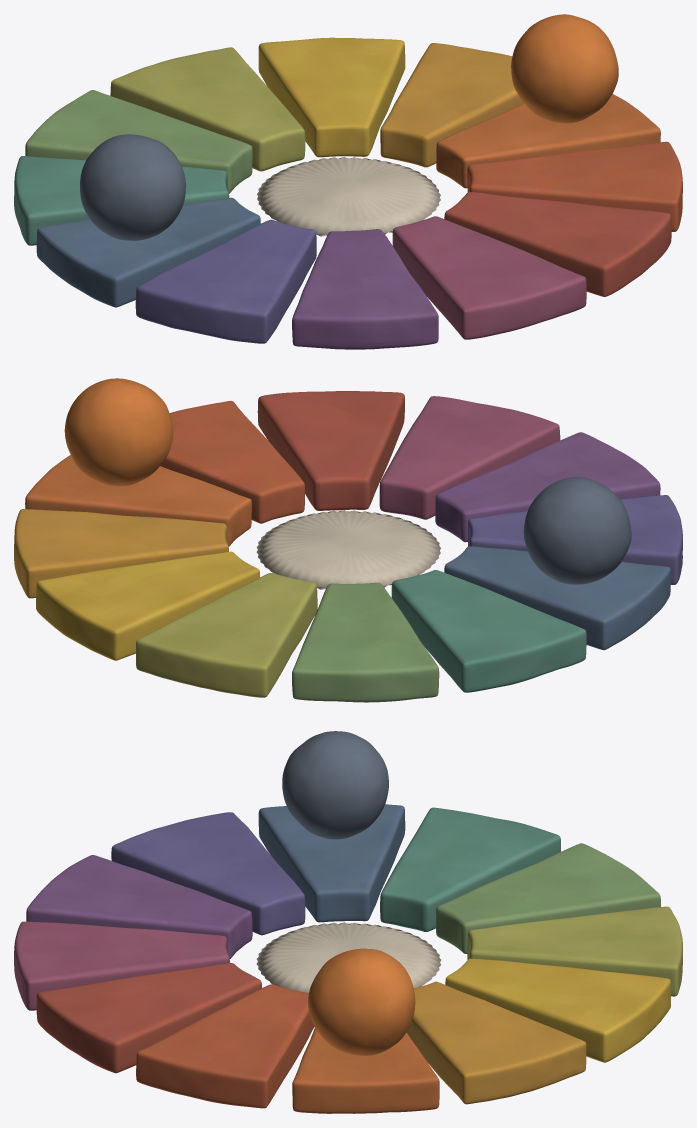
File: neutralizacion-del-color.glb
The picture shows the model from 3 angles, top to bottom: view 1: azimuth 30°, elevation 25°; view 2: azimuth 150°, elevation 25°; view 3: azimuth 270°, elevation 25°; orthographic projection.
Visible parts, largest first — view 1: Cuña_09, Cuña_07, Cuña_08, Cuña_02, Cuña_10, Cuña_03, Cuña_06, Cuña_11, Peana, Cuña_01, Cuña_04, Gota_naranja (+3 smaller); view 2: Cuña_05, Cuña_03, Cuña_02, Cuña_04, Cuña_10, Cuña_09, Cuña_01, Cuña_06, Peana, Cuña_11, Cuña_08, Gota_naranja (+3 smaller); view 3: Cuña_11, Cuña_01, Cuña_10, Cuña_02, Cuña_07, Cuña_05, Cuña_04, Cuña_08, Cuña_09, Cuña_03, Cuña_06, Cuña_00 (+3 smaller).
Part boxes in pixels (x1,y1,x2,y2): Cuña_09: (392,216,586,339); Cuña_07: (135,219,316,343); Cuña_08: (292,229,438,349); Cuña_02: (258,37,405,157); Cuña_10: (444,192,671,296); Cuña_03: (110,47,305,171); Cuña_06: (36,197,260,307); Cuña_11: (467,141,682,231); Peana: (257,157,440,236); Cuña_01: (380,43,523,167); Cuña_04: (25,90,252,193); Gota_naranja: (511,14,618,123); Cuña_05: (391,570,586,692); Cuña_03: (136,573,317,697); Cuña_02: (36,551,259,660); Cuña_04: (292,582,439,702); Cuña_10: (257,391,404,510); Cuña_09: (379,396,560,519); Cuña_01: (14,509,228,598); Cuña_06: (444,546,670,650); Peana: (256,510,440,589); Cuña_11: (160,401,304,523); Cuña_08: (435,432,660,542); Gota_naranja: (64,378,173,486); Cuña_11: (136,984,314,1108); Cuña_01: (406,981,586,1104); Cuña_10: (36,963,261,1073); Cuña_02: (445,958,670,1062); Cuña_07: (111,812,305,935); Cuña_05: (380,807,560,931); Cuña_04: (435,843,660,953); Cuña_08: (26,855,252,958); Cuña_09: (14,921,229,1010); Cuña_03: (467,906,682,996); Cuña_06: (258,804,405,922); Cuña_00: (292,1027,439,1113).
Size of the model in its own units: 5.2 by 1.13 by 5.2.
Materials: 17 (16 with a texture image).
